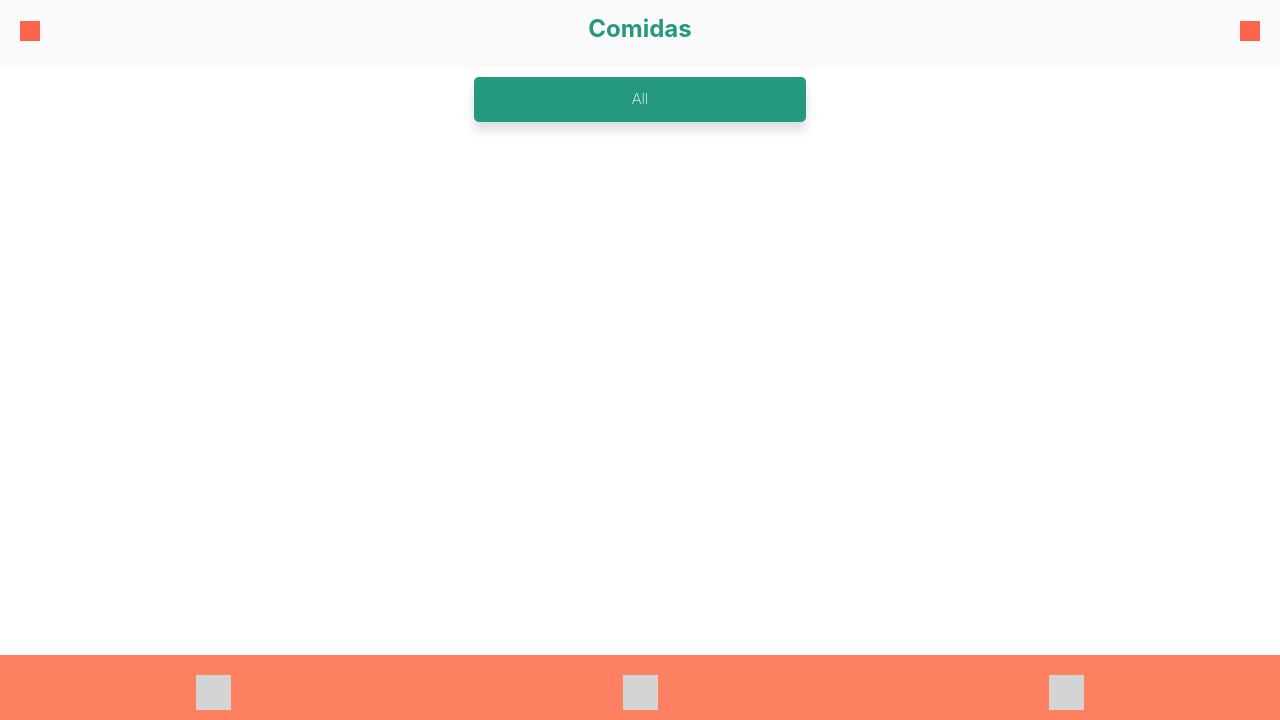
Test case: Teste componente Header › Clicar no botão de busca habilita/desabilita a barra
Click the button with test id "search-top-btn": (1252, 33) 1240,15 -> 1265,52
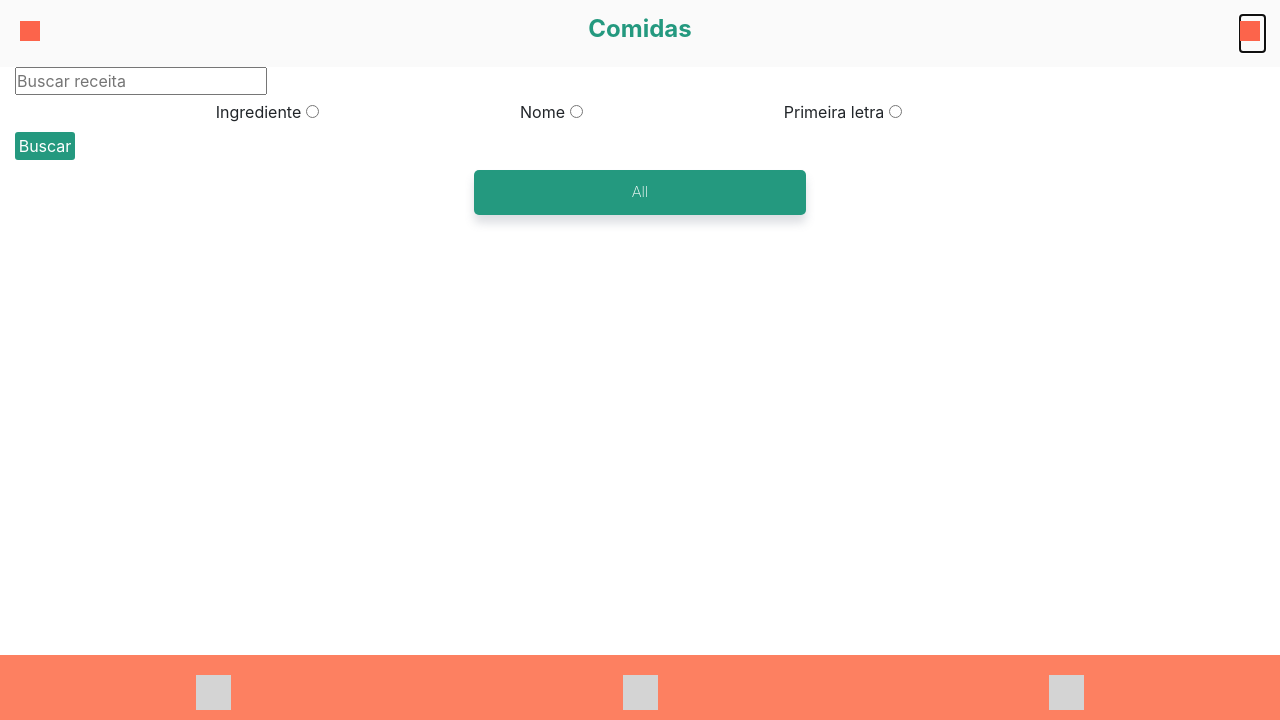
Now the field with test id "search-input" is shown, box 15,67 -> 267,95
